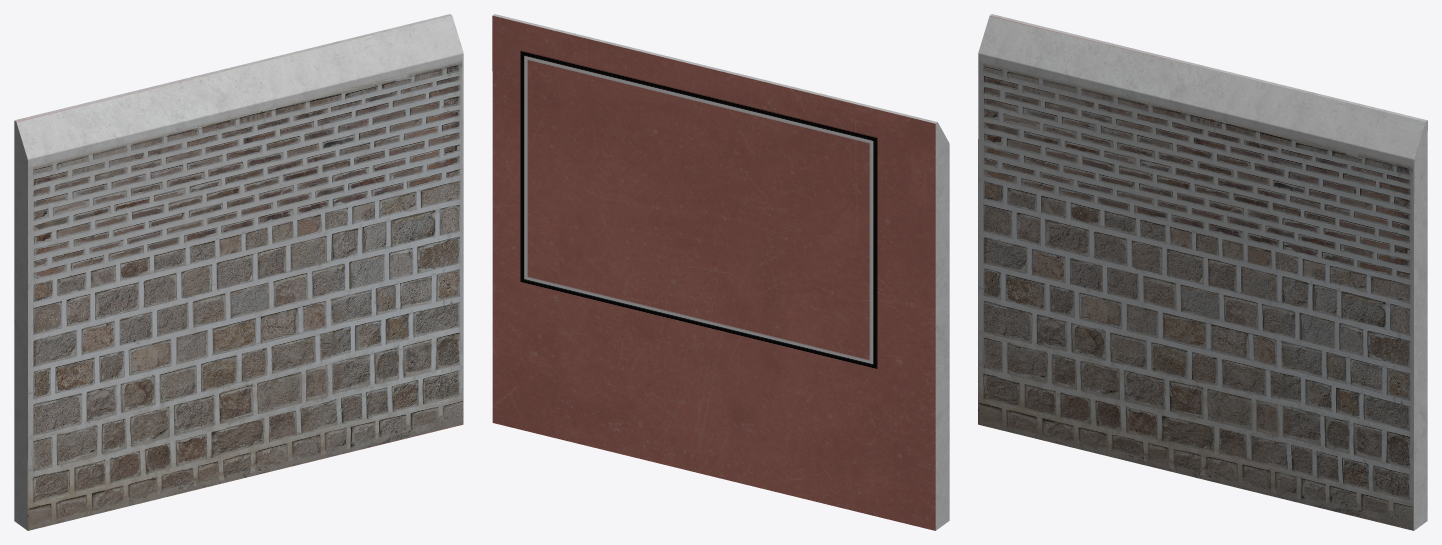
File: SM_SJJ_HG_Hwabang01A.fbx
3 renders of one model, left to right at view 1: azimuth 30°, elevation 25°; view 2: azimuth 150°, elevation 25°; view 3: azimuth 330°, elevation 25°, orthographic.
Visible parts, largest first — view 1: SM_SJJ_HG_Hwabang01A; view 2: SM_SJJ_HG_Hwabang01A; view 3: SM_SJJ_HG_Hwabang01A.
Part boxes in pixels (left/top/right/bottom): SM_SJJ_HG_Hwabang01A: left=14, top=14, right=463, bottom=530; SM_SJJ_HG_Hwabang01A: left=492, top=14, right=949, bottom=530; SM_SJJ_HG_Hwabang01A: left=978, top=14, right=1427, bottom=530.
Size of the model in its own units: 234 by 12.68 by 205.
1 material, 1 textured.
